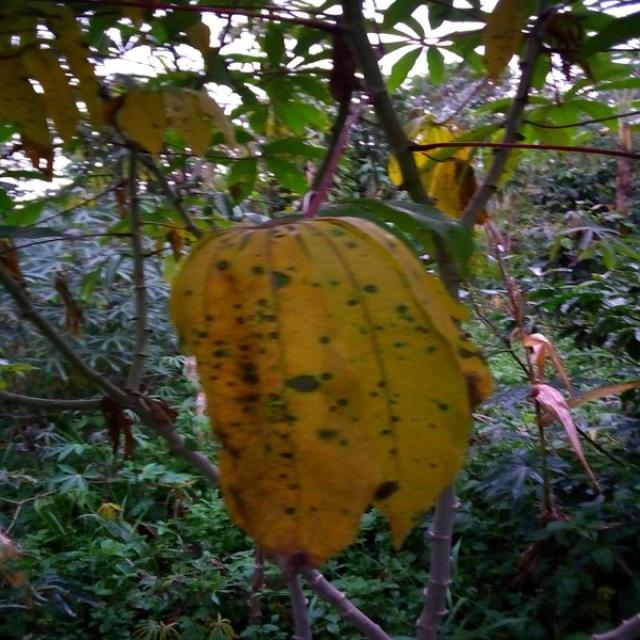cassava leaf: (169, 214, 496, 568)
